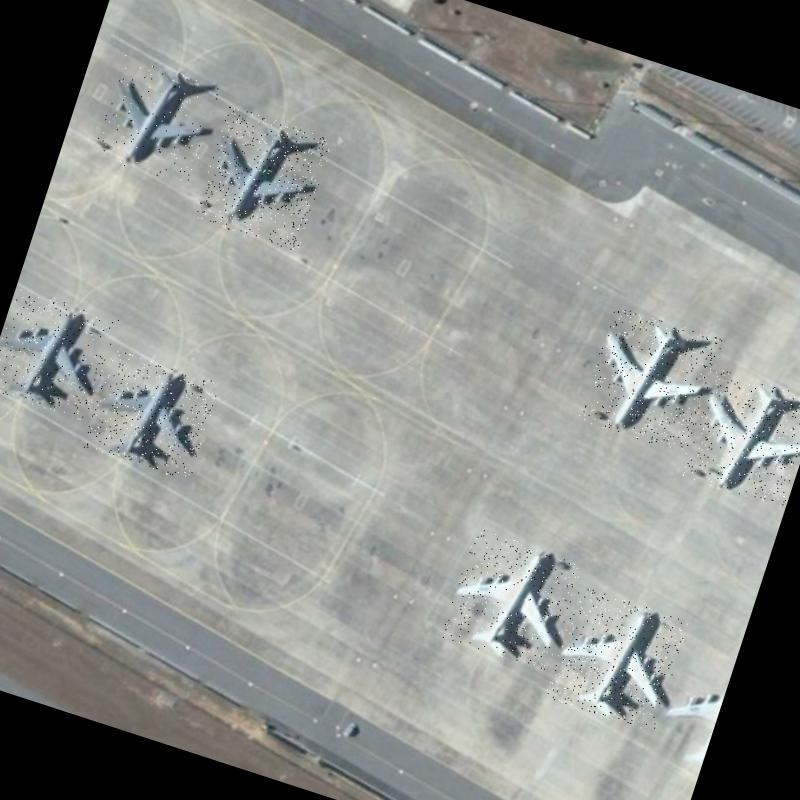A11: (578, 305, 724, 455), (544, 586, 690, 732), (440, 528, 584, 672), (682, 367, 800, 510)
A14: (194, 105, 334, 252), (82, 349, 221, 482), (92, 54, 222, 188), (0, 287, 119, 422)
